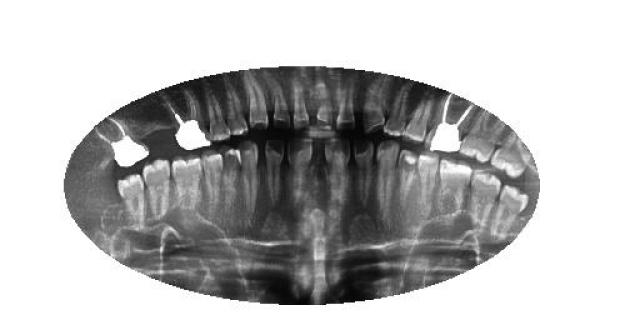Implant: (160, 91, 212, 150), (424, 92, 475, 152), (94, 116, 150, 169)
